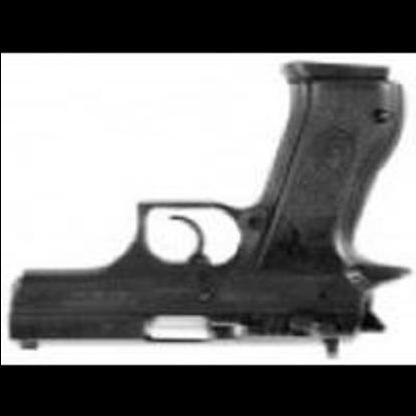weapon: (9, 55, 410, 361)
